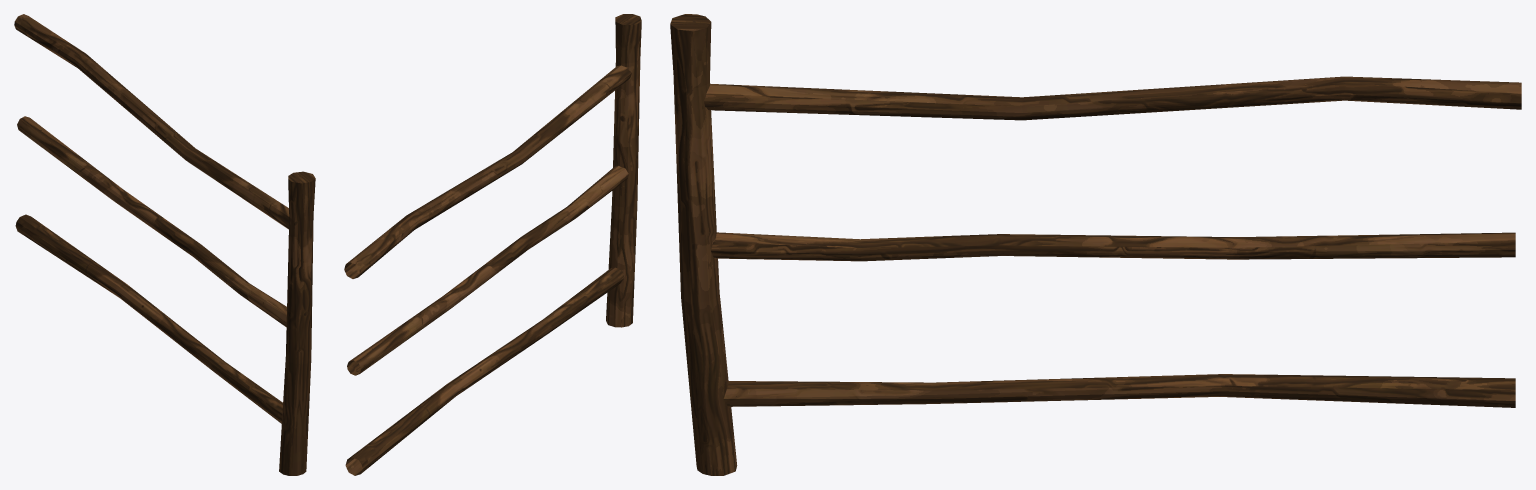
Rendered from e_fence_piece.fbx.
The picture shows the model from 3 angles, left to right: view 1: azimuth 30°, elevation 25°; view 2: azimuth 150°, elevation 25°; view 3: azimuth 270°, elevation 25°; orthographic projection. The views are drawn at different scales.
Visible parts, largest first — view 1: Fence_Piece; view 2: Fence_Piece; view 3: Fence_Piece.
Part boxes in pixels (left/top/right/bottom): Fence_Piece: left=14, top=14, right=315, bottom=475; Fence_Piece: left=344, top=14, right=641, bottom=475; Fence_Piece: left=670, top=14, right=1521, bottom=475.
Bounding box in the file's own units: 20.02 × 240 × 416.
1 material, 1 textured.
